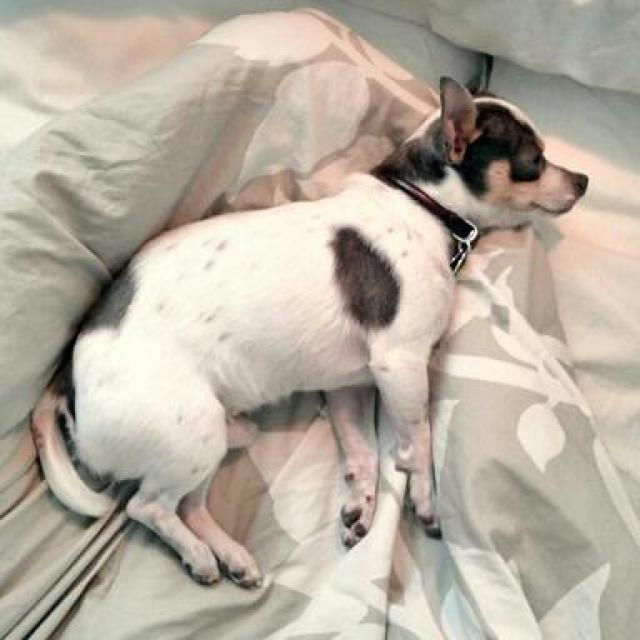relax: (21, 16, 595, 616)
